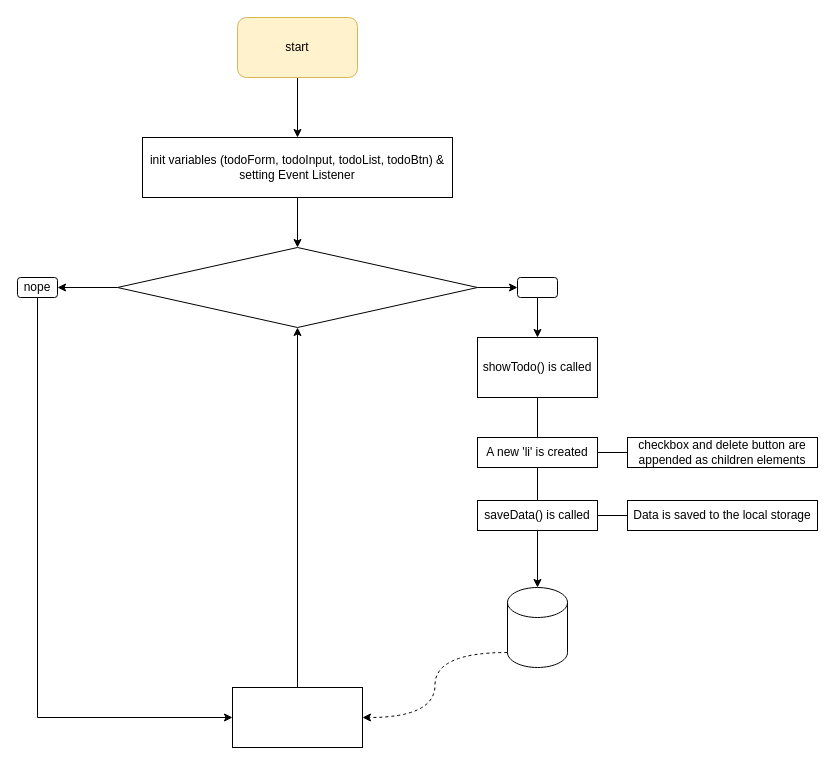
Image size: 835x765. Some labels were removed from this diagram. Each missing label, with the box of its shape:
Local Storage: (506, 586, 568, 668)
showTask(): (232, 686, 362, 748)
User submission by clicking todoBtn or pressing Enter: (116, 246, 478, 328)
yes: (516, 276, 558, 298)
